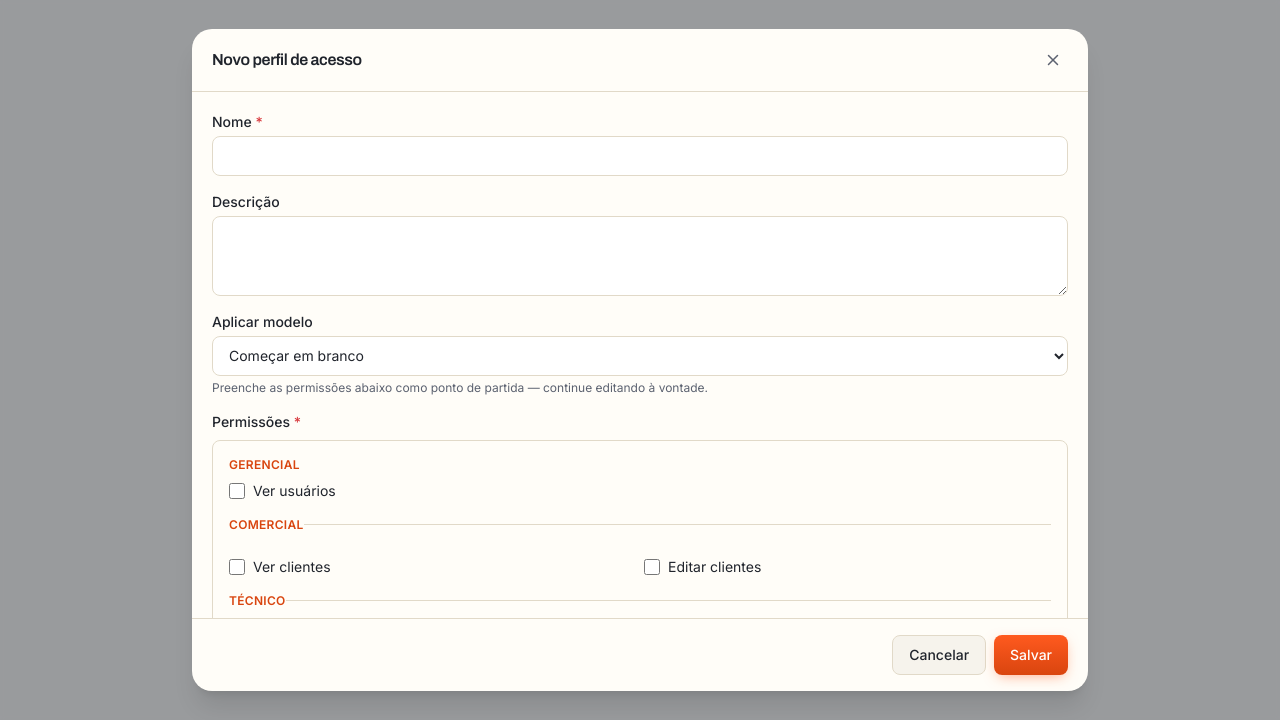
Test case: PerfilFormModal › requires at least one permission before saving
Type "Novo Perfil" into the field labelled "Nome *" at x=640, y=156, box [212,136,1068,176]
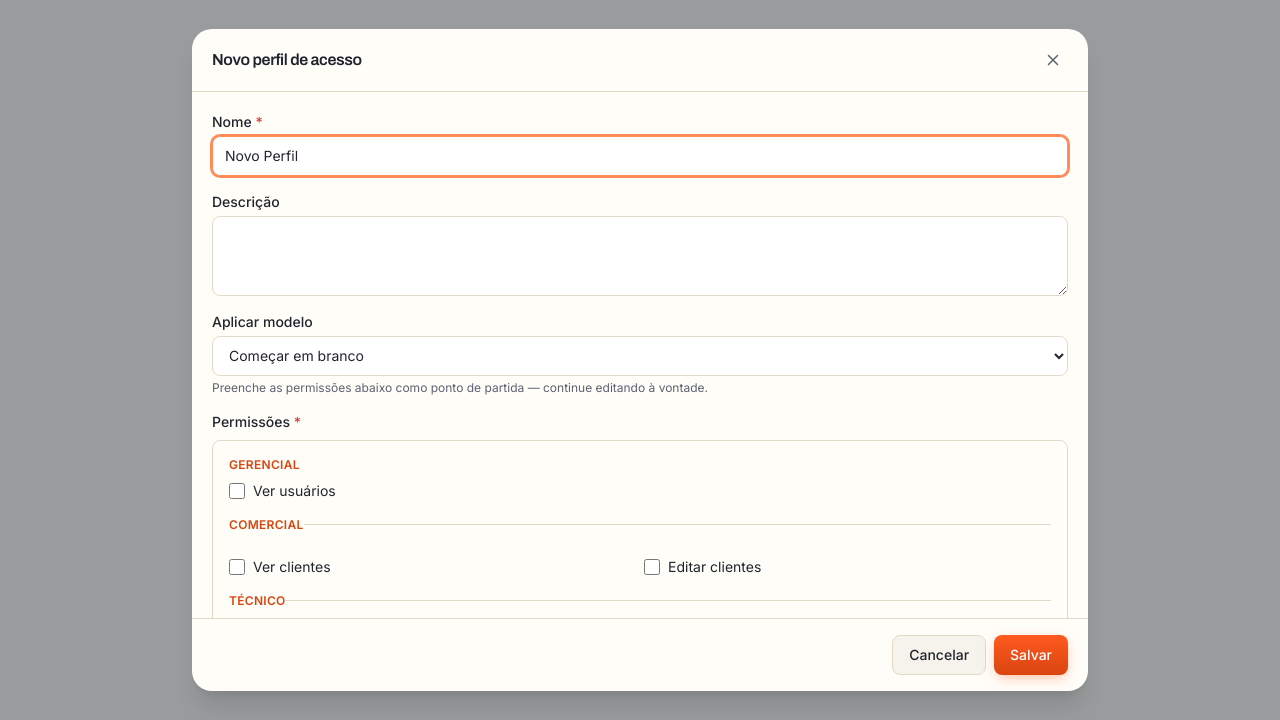
Click the button "Salvar" at x=1031, y=655, box [994,635,1068,675]
(page scrolled)
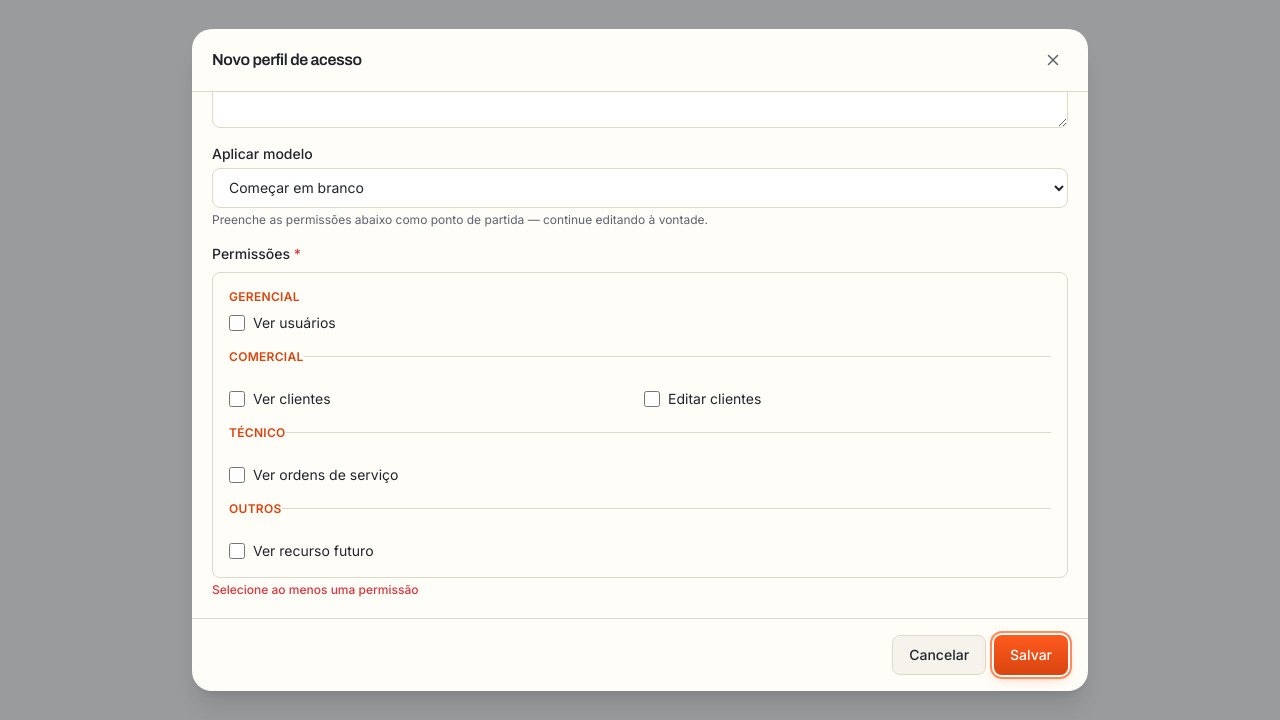
Check: the text "Selecione ao menos uma permissão" is shown, box [212,582,418,597]
